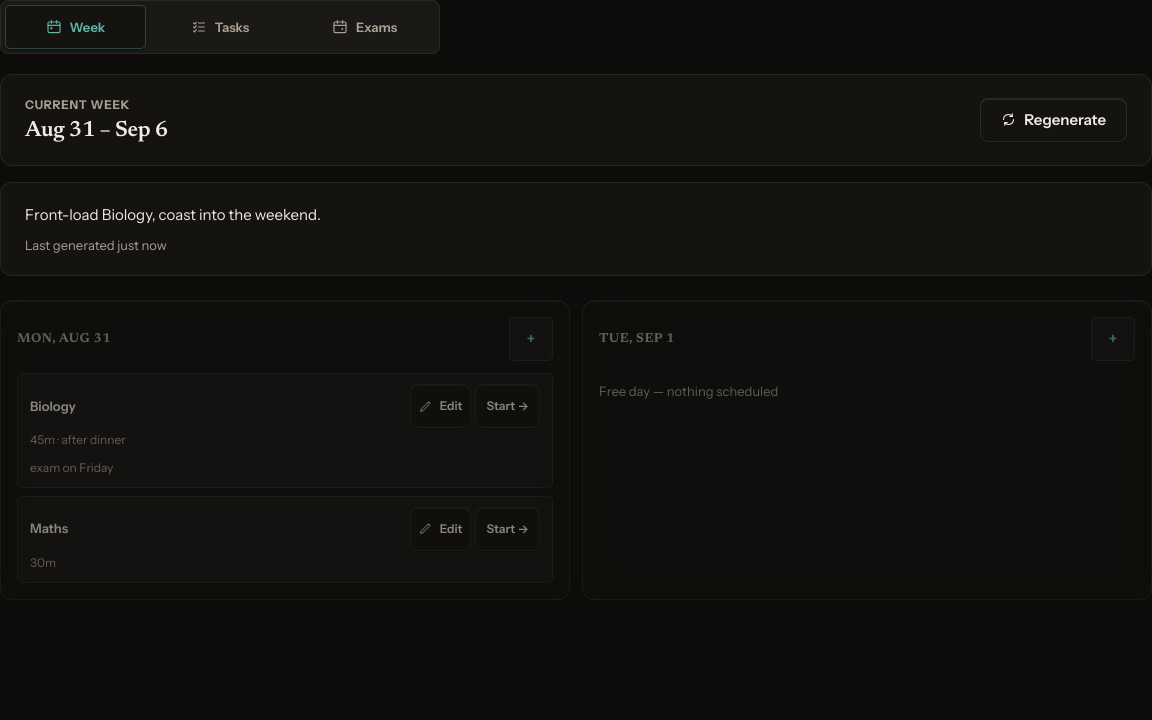
it: PlanView › with a plan › edits and persists a study block without regenerating the week
Click the button with aria-label "Edit Biology plan block".
click(441, 406)  # box [410,384,472,428]
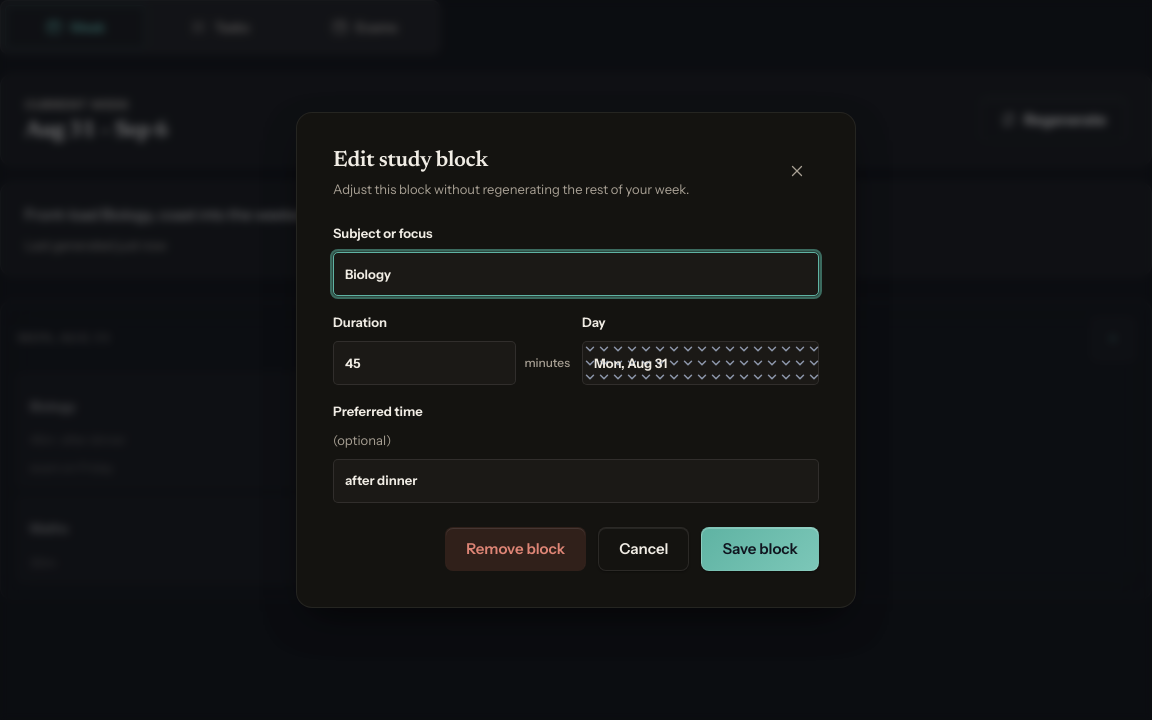
Replace the text in the field labelled "Subject or focus" with "Cell biology" at (576, 274), box [333,252,819,296]
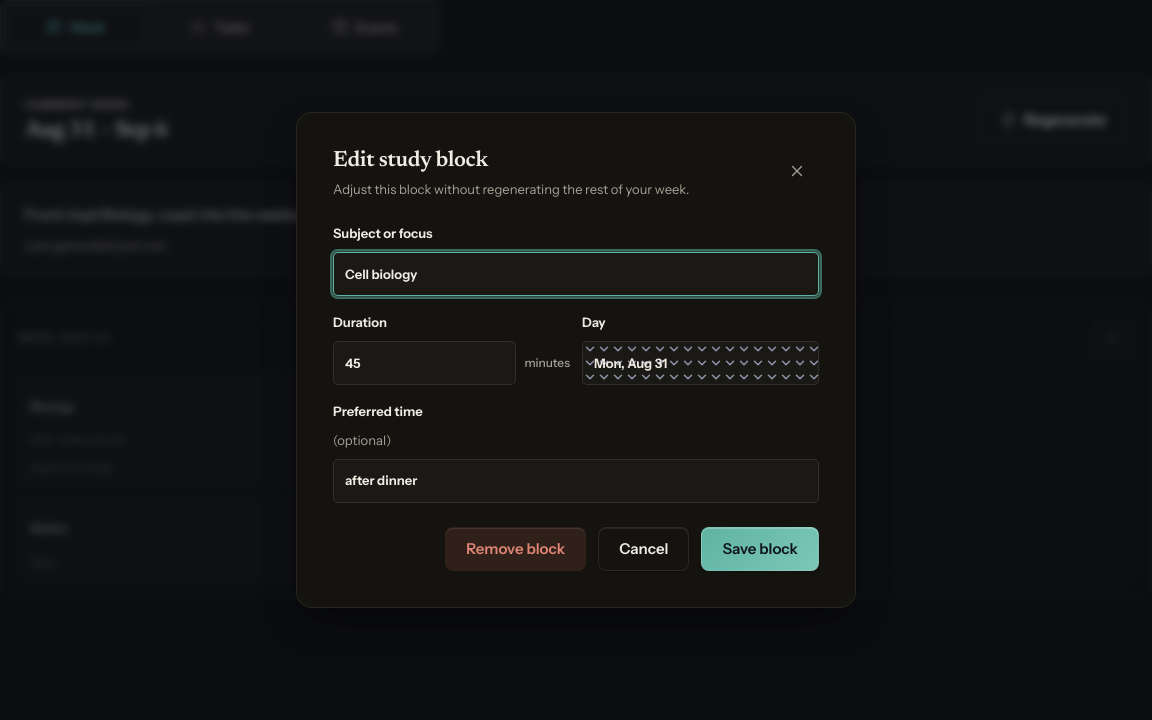
Replace the text in the number field labelled "Duration minutes" with "55" at (425, 363), box [333,341,516,385]
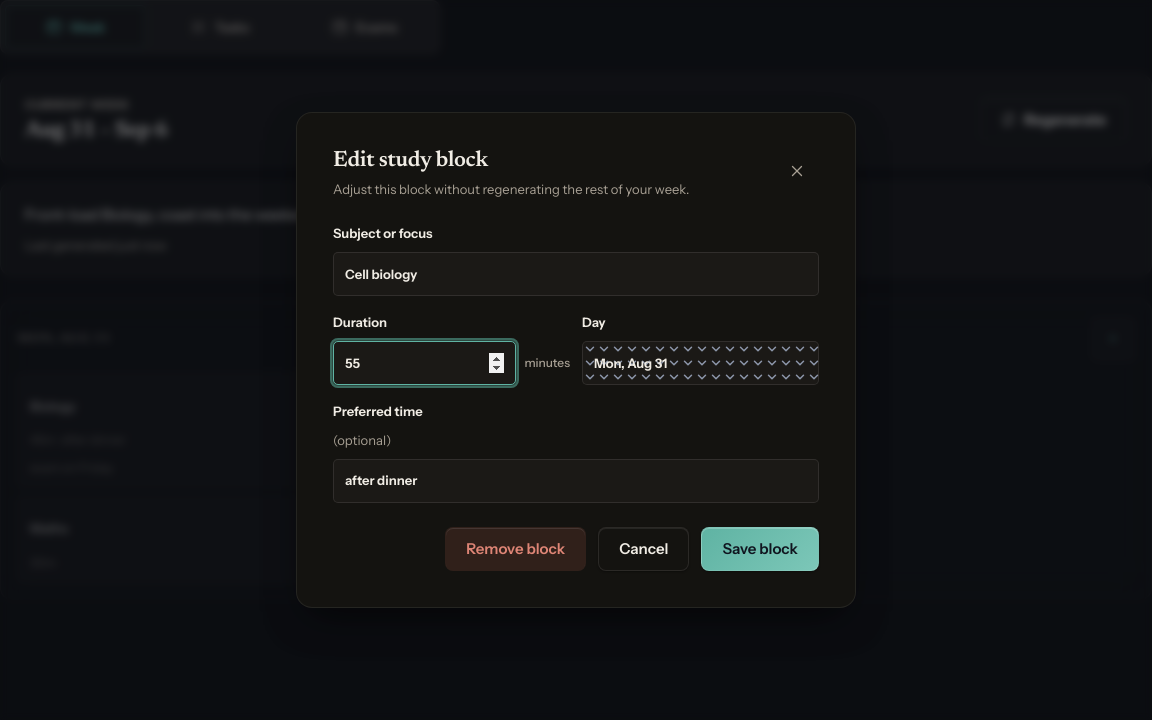
Select "Tue, Sep 1" in the dropdown labelled "Day" at (700, 363), box [582,341,819,385]
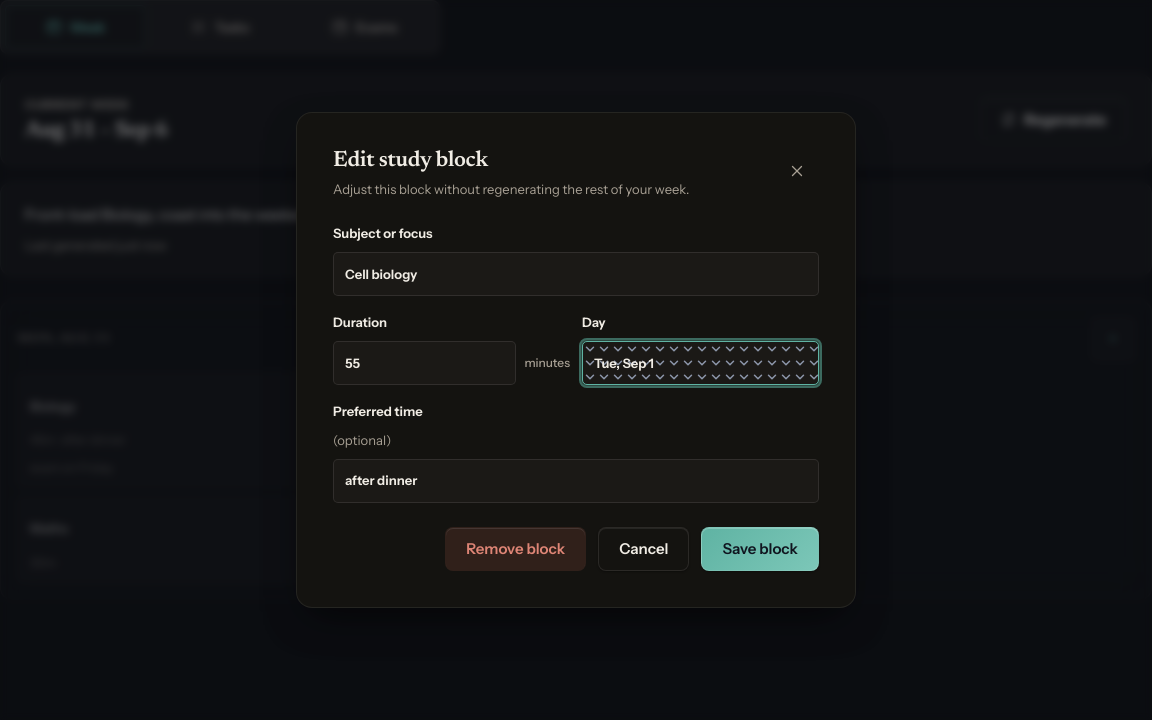
Click the button "Save block".
click(760, 549)  # box [701,527,819,571]
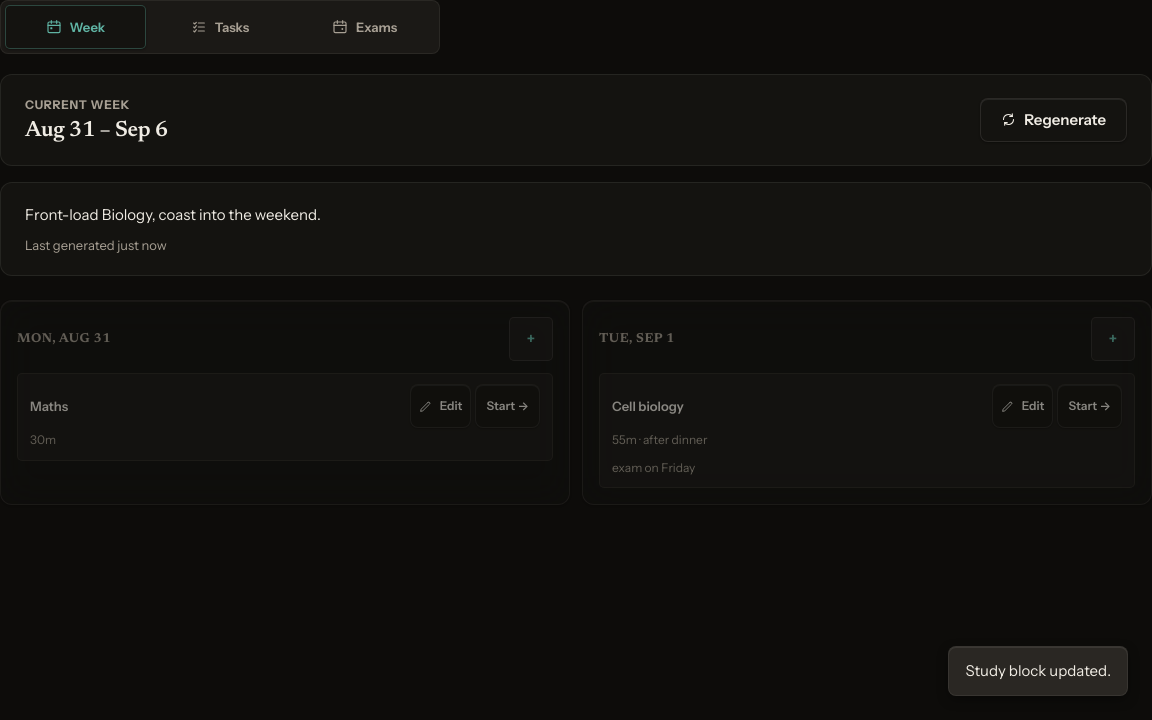
Check: the text "Cell biology" is shown, box [612,396,684,417]
Check: the text "55m · after dinner" is shown, box [612,432,707,447]
